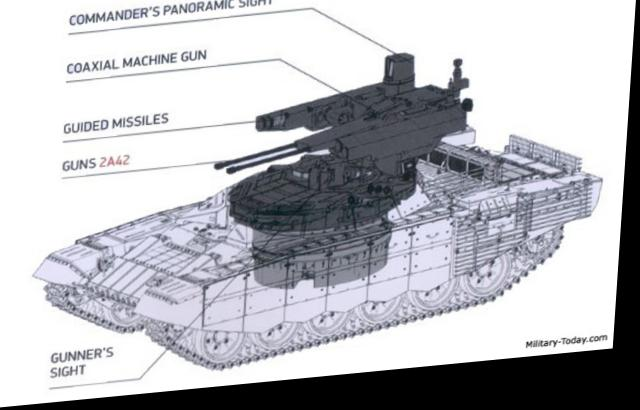tank: (26, 110, 589, 367)
